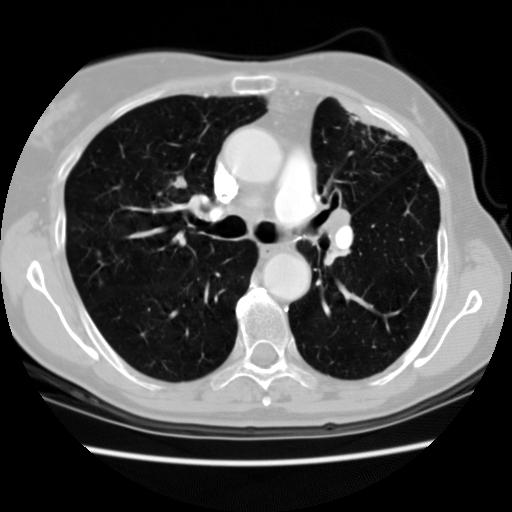nodule: (169, 173, 189, 193)
